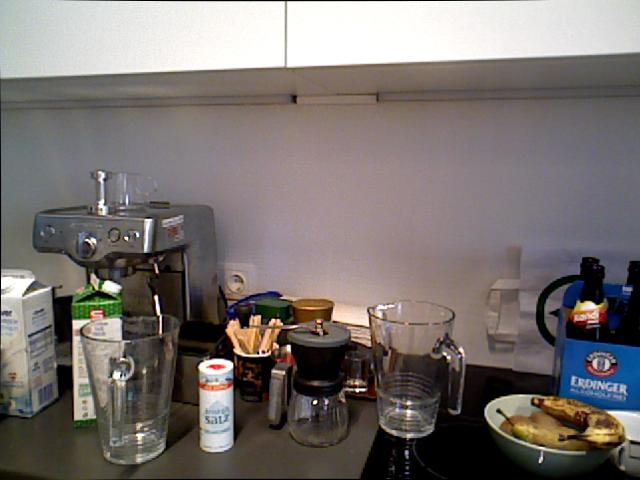bench: (1, 268, 60, 418), (72, 277, 121, 419), (572, 256, 608, 342), (624, 256, 640, 348)
bird: (483, 393, 625, 477)
handbag: (79, 313, 181, 465), (366, 299, 466, 438), (90, 168, 157, 216), (234, 345, 276, 402)
motorcycle: (534, 394, 621, 447)
